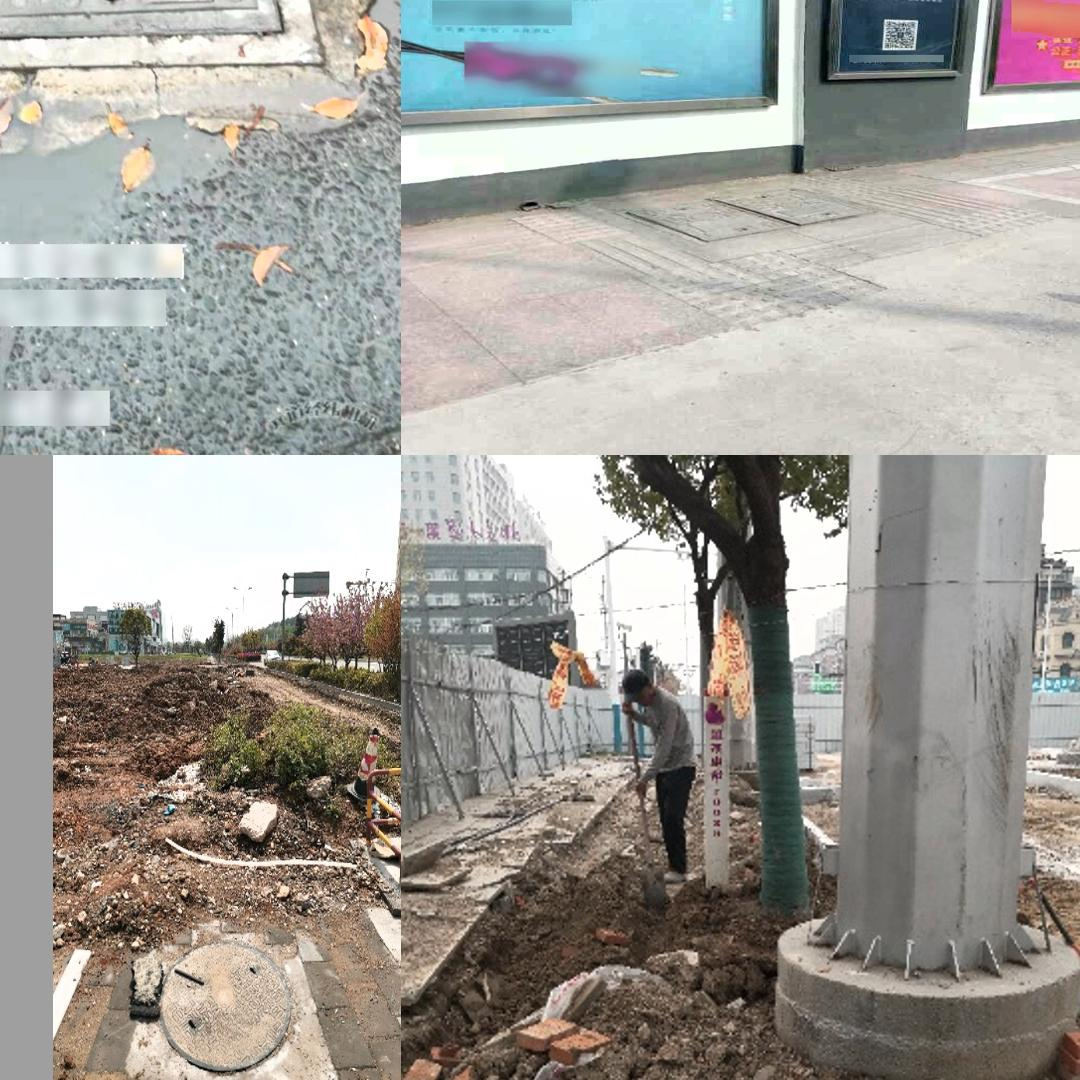good: (0, 0, 325, 72), (161, 944, 296, 1063), (615, 186, 878, 241)
